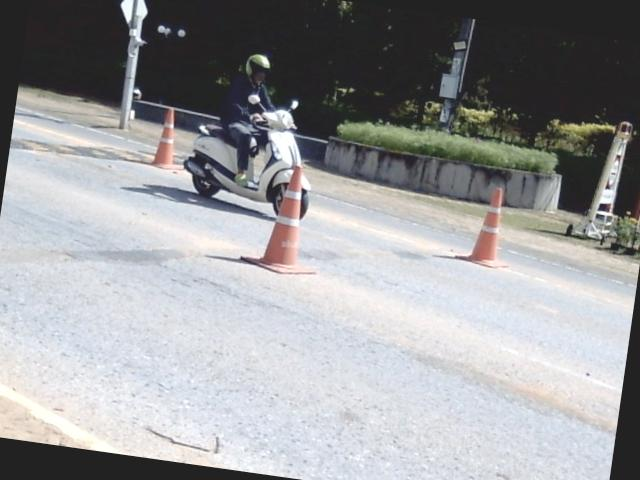helmet: (247, 53, 269, 80)
motor: (183, 101, 301, 214)
person: (221, 54, 274, 185)
